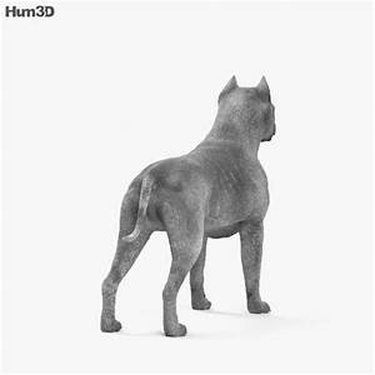dog: (85, 66, 284, 341)
